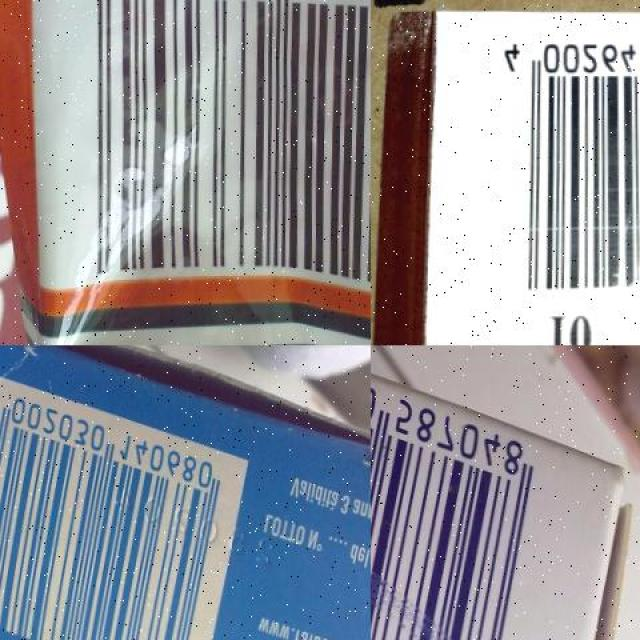Barcode: (29, 0, 371, 316), (0, 365, 253, 639), (371, 345, 552, 640), (481, 17, 640, 308)
